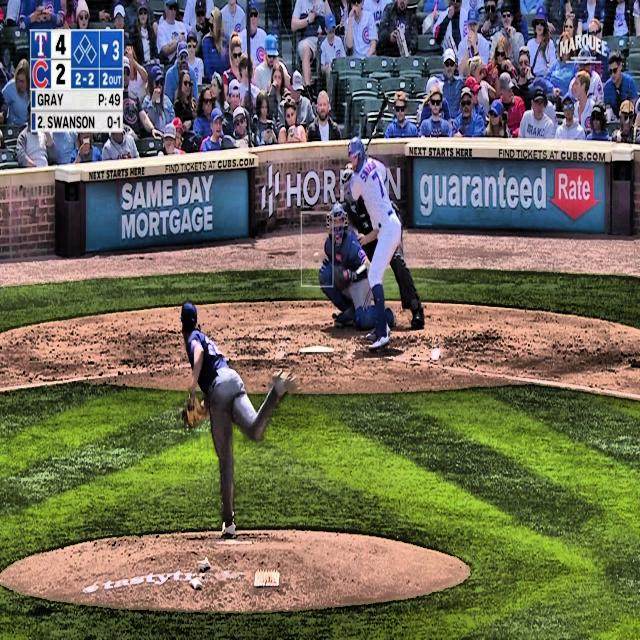baseball: (312, 251, 320, 264)
